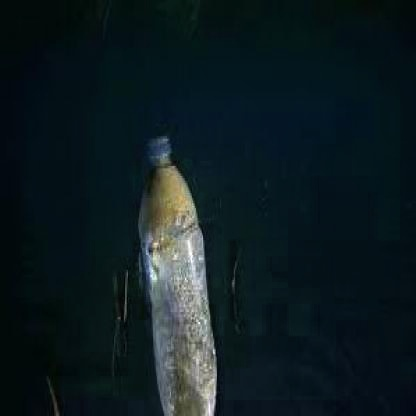pbottle: (128, 131, 228, 416)
